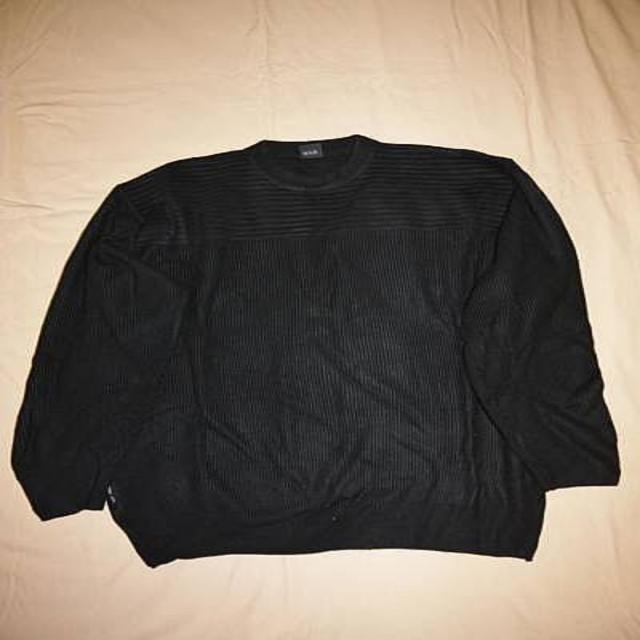SHIRT: (0, 130, 639, 573)
